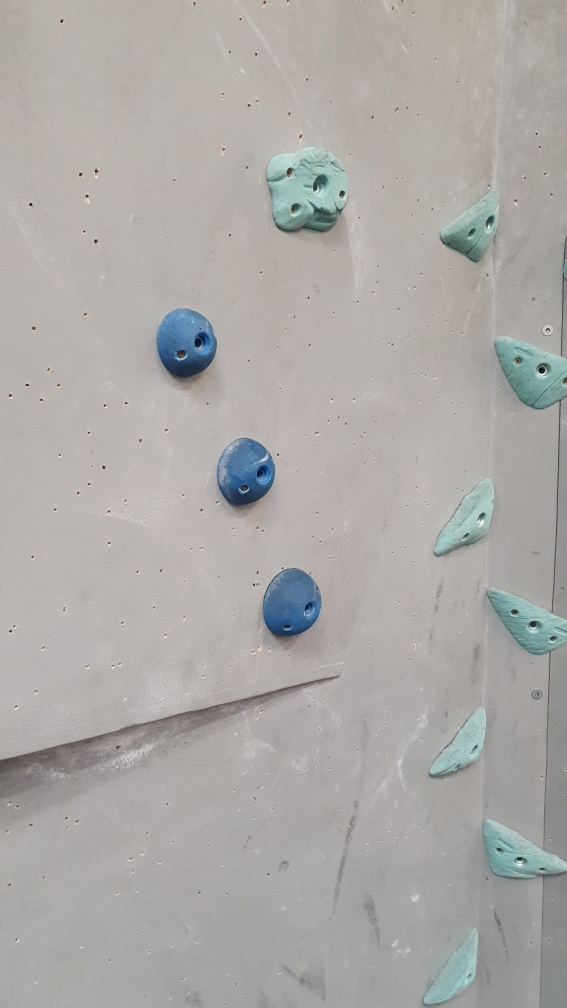Crimp: (481, 569, 567, 663), (489, 327, 567, 420), (426, 473, 502, 565), (416, 923, 497, 1008), (479, 809, 567, 884), (424, 704, 499, 786), (436, 184, 508, 269)
Sloper: (254, 560, 326, 646), (154, 303, 222, 384), (215, 434, 281, 517)
